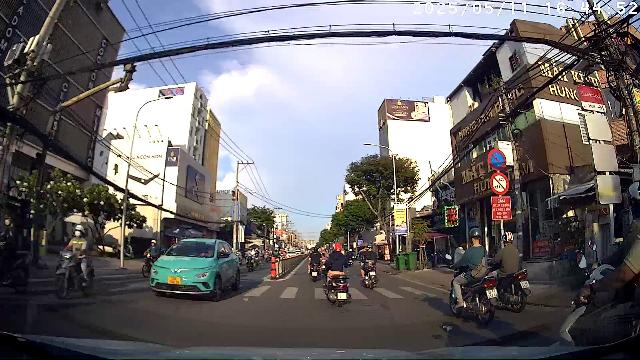131a-cam-do-xe: (488, 149, 507, 171)
